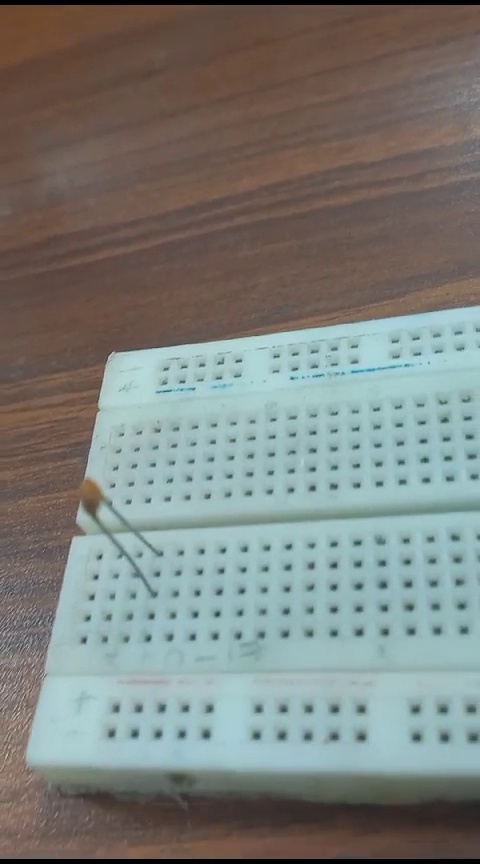ceramic capacitor: (84, 479, 174, 607)
